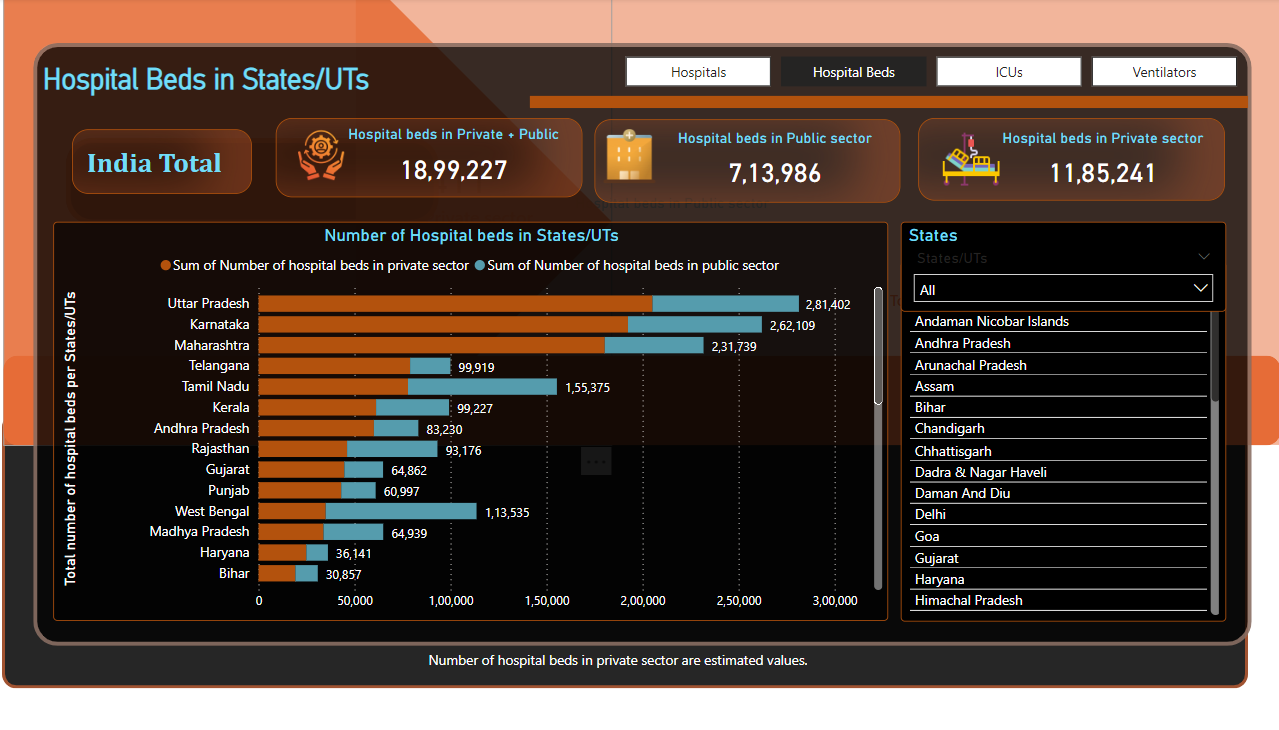

The page's visual inventory and layout, read from the dashboard file:
{"tool":"powerbi","page":{"name":"Hospital Beds","canvas":[1280,720],"ordinal":1},"visuals":[{"type":"card","fields":{"Values":["Sum(hospital_beds.Hospital beds in private sector)"]},"box":[290.2,140.9,280.2,90.6],"z":0},{"type":"shape","box":[91.7,137.5,364.9,84.7],"z":1000},{"type":"shape","box":[452.5,117.9,382,81.6],"z":2000},{"type":"shape","box":[29.9,43.7,1219,402.9],"z":3000},{"type":"shape","box":[29.9,406.3,1219,269.4],"z":4000},{"type":"card","fields":{"Values":["Sum(hospital_beds.Total hospital beds)"]},"box":[876,240.3,170.4,67],"z":5000},{"type":"card","title":"Hospital beds in Public sector","fields":{"Values":["Sum(hospital_beds.Hospital beds in public sector)"]},"box":[545.9,192.1,279.7,65.8],"z":6000},{"type":"shape","box":[375.3,0,904.7,437.2],"z":7000},{"type":"shape","box":[30.2,0,595.3,437.2],"z":8000},{"type":"shape","box":[30.2,349.2,1249.8,88],"z":9000},{"type":"shape","box":[59.7,43.9,1191.9,589.8],"z":10000},{"type":"barChart","title":"Number of Hospital beds in States/UTs","fields":{"Y":["Sum(Hospital Beds in States/UTs.Number of hospital beds in private sector)","Sum(Hospital Beds in States/UTs.Number of hospital beds in public sector)"],"Category":["Hospital Beds in States/UTs.States/UTs"]},"box":[79.9,218.7,817.1,390.8],"z":11000},{"type":"shape","box":[545.5,95.7,703.4,12.4],"z":12000},{"type":"image","box":[597.1,123.4,92.9,62.3],"z":13000},{"type":"image","box":[297.4,122.2,88.2,63.5],"z":14000},{"type":"tableEx","fields":{"Values":["Hospital Beds in States/UTs.States/UTs"]},"box":[908.1,257.6,318.6,351.9],"z":15000},{"type":"slicer","title":"States","fields":{"Values":["Hospital Beds in States/UTs.States/UTs"]},"box":[908.1,218.7,318.6,87.7],"z":16000},{"type":"textbox","box":[441.4,634,450.5,32.2],"z":17000},{"type":"shape","box":[926.2,117.5,299.7,81.1],"z":18000},{"type":"card","title":"Hospital beds in Private sector","fields":{"Values":["Sum(Hospital Beds in States/UTs.Number of hospital beds in private sector)"]},"box":[999,128.2,214.8,66.2],"z":19000},{"type":"image","box":[934.4,122.2,87,69.3],"z":20000},{"type":"shape","box":[609,118.6,299.2,81.2],"z":21000},{"type":"shape","box":[297.4,117.5,299.7,77.6],"z":22000},{"type":"card","title":"Hospital beds in Private + Public","fields":{"Values":["Sum(Hospital Beds in States/UTs.Total number of hospital beds (public+private))"]},"box":[354.7,125,232.9,67.3],"z":23000},{"type":"card","title":"Hospital beds in Public sector","fields":{"Values":["Sum(Hospital Beds in States/UTs.Number of hospital beds in public sector)"]},"box":[678.5,128.2,213.7,67.3],"z":24000},{"type":"textbox","box":[64.6,57.2,392.7,51],"z":25000},{"type":"pageNavigator","box":[640,57.2,600.2,29.8],"z":26000},{"type":"shape","box":[97.4,128.3,176.2,63.4],"z":27000},{"type":"textbox","box":[107.7,139.9,153.2,41.1],"z":28000}]}

Visuals, with their boxes in screenshot pixels (x1, y1, x2, y2), scaled from the page's 1280x720 canvas onto the 1279x730 screenshot:
card - Sum(hospital_beds.Hospital beds in private sector): 290:143:570:235
shape: 92:139:456:225
shape: 452:120:834:202
shape: 30:44:1248:453
shape: 30:412:1248:685
card - Sum(hospital_beds.Total hospital beds): 875:244:1046:312
"Hospital beds in Public sector" card: 545:195:825:261
shape: 375:0:1278:443
shape: 30:0:625:443
shape: 30:354:1278:443
shape: 60:45:1251:643
"Number of Hospital beds in States/UTs" barChart: 80:222:896:618
shape: 545:97:1248:110
image: 597:125:689:188
image: 297:124:385:188
tableEx - Hospital Beds in States/UTs.States/UTs: 907:261:1226:618
"States" slicer: 907:222:1226:311
textbox: 441:643:891:675
shape: 925:119:1225:201
"Hospital beds in Private sector" card: 998:130:1213:197
image: 934:124:1021:194
shape: 609:120:907:203
shape: 297:119:597:198
"Hospital beds in Private + Public" card: 354:127:587:195
"Hospital beds in Public sector" card: 678:130:892:198
textbox: 65:58:457:110
pageNavigator: 640:58:1239:88
shape: 97:130:273:194
textbox: 108:142:261:184
